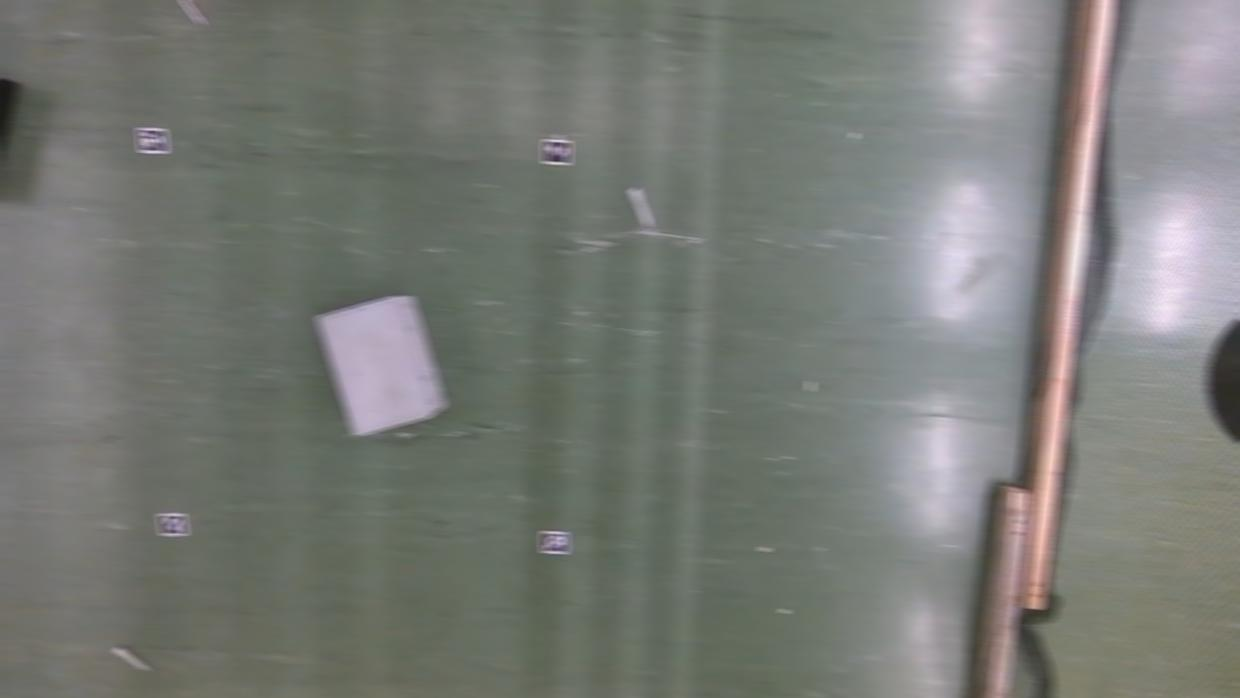probes: (627, 186, 653, 230), (112, 645, 148, 672), (172, 0, 206, 27)
rako: (311, 292, 449, 437)
